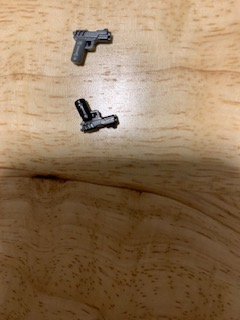pistol: (70, 97, 123, 139), (67, 28, 113, 67)
